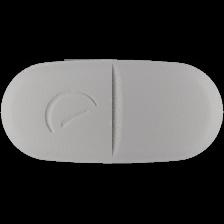49884-413: (0, 0, 224, 224)
